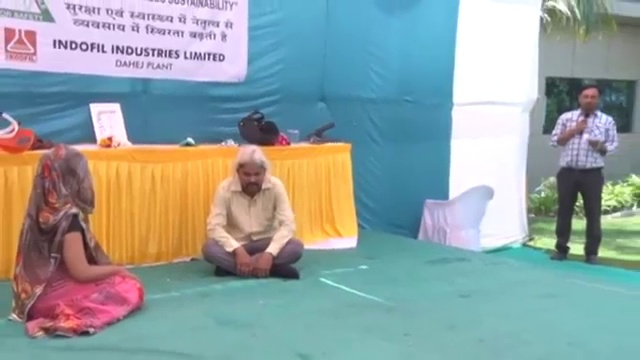helmet_off: (35, 145, 96, 212), (235, 145, 266, 195), (576, 84, 602, 112)
person: (8, 144, 144, 336), (196, 144, 306, 281), (546, 85, 620, 266)
